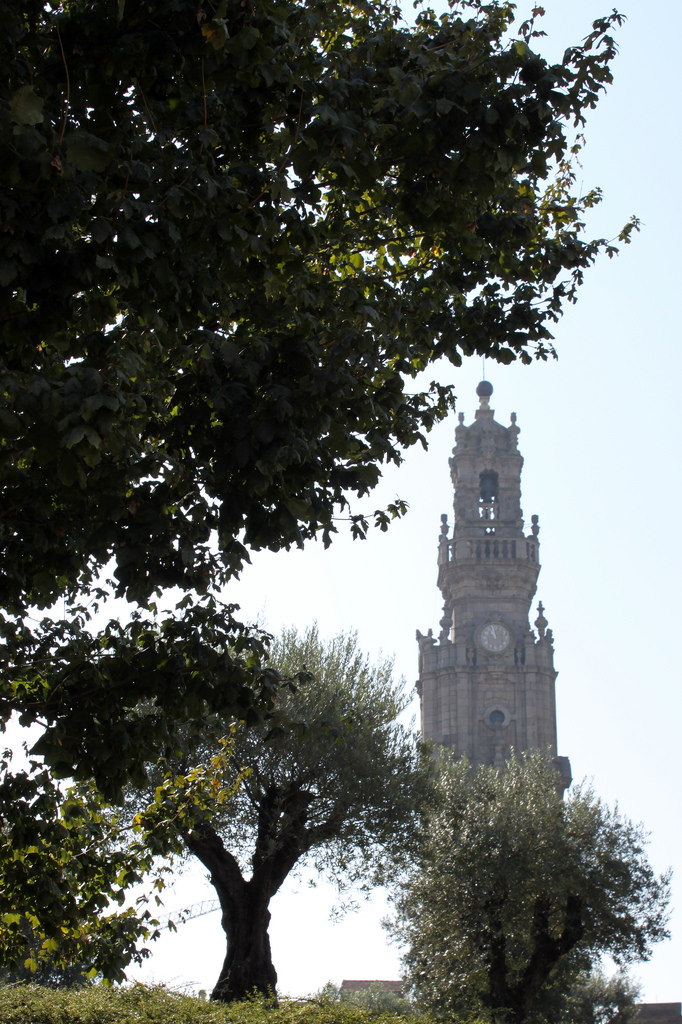clerigos: (411, 358, 574, 829)
